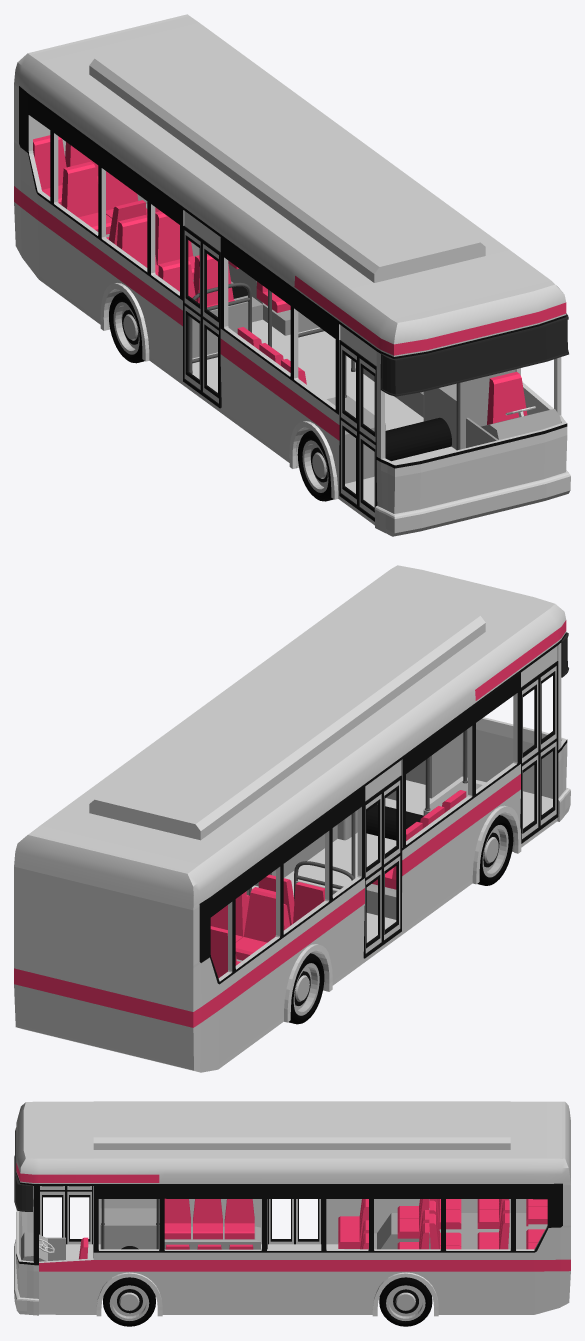
Rendered from bus2 no glass.fbx.
3 views of the same model, one above another, from view 1: azimuth 30°, elevation 25°; view 2: azimuth 150°, elevation 25°; view 3: azimuth 270°, elevation 25° (orthographic). The views are drawn at different scales.
Parts seen in each view (by area): view 1: Cube.001; view 2: Cube.001; view 3: Cube.001.
Part boxes in pixels (<box>): Cube.001: <box>14,14,570,536</box>; Cube.001: <box>14,565,570,1072</box>; Cube.001: <box>14,1101,570,1326</box>.
Bounding box in the file's own units: 621 × 759 × 2174.
